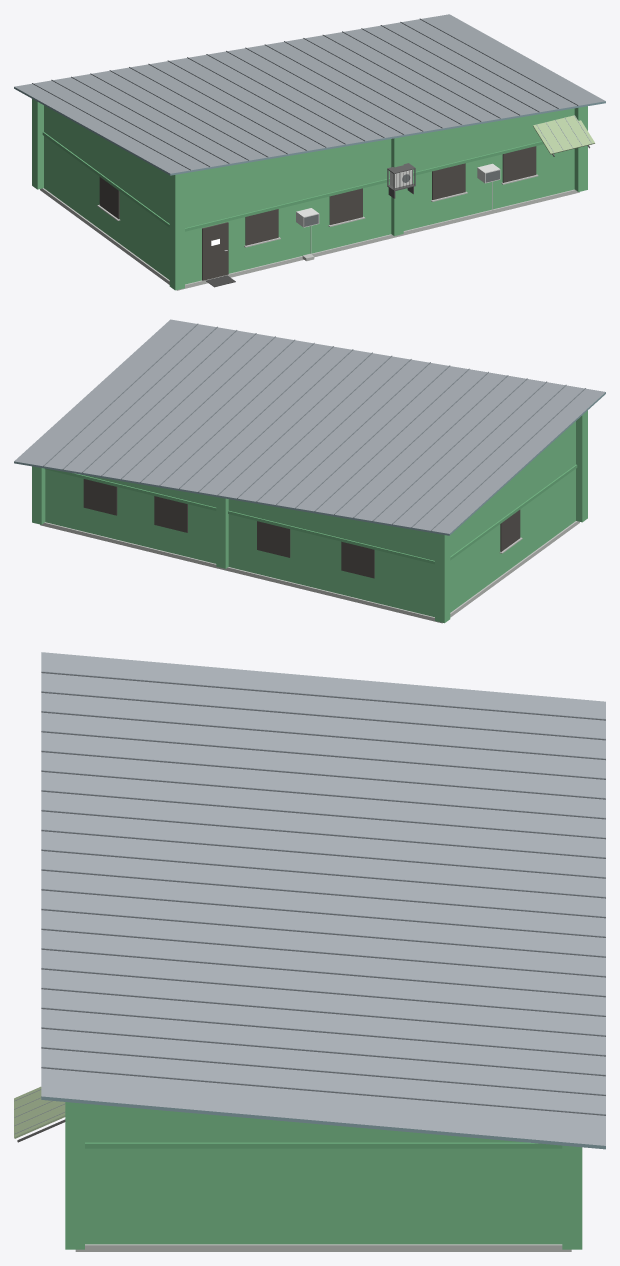
File: ild_building.glb
3 renders of one model, top to bottom at view 1: azimuth 30°, elevation 25°; view 2: azimuth 150°, elevation 25°; view 3: azimuth 270°, elevation 25°, orthographic. The views are drawn at different scales.
Visible parts, largest first — view 1: ILD_Roof_Slab, Mesh_ILD_WallGreen, Mesh_ILD_RoofRib, Mesh_ILD_FrameBronze, Mesh_ILD_PlinthConcrete, Mesh_ILD_WallBeam, ILD_Awning_Roof, Mesh_ILD_ACMetal, Mesh_ILD_CageDark; view 2: ILD_Roof_Slab, Mesh_ILD_WallGreen, Mesh_ILD_RoofRib, Mesh_ILD_FrameBronze, Mesh_ILD_PlinthConcrete, Mesh_ILD_WallBeam; view 3: ILD_Roof_Slab, Mesh_ILD_WallGreen, Mesh_ILD_RoofRib, Mesh_ILD_PlinthConcrete, Mesh_ILD_WallBeam, ILD_Awning_Roof.
Part boxes in pixels (x1,y1,x2,y2): ILD_Roof_Slab: (14, 14, 605, 175); Mesh_ILD_WallGreen: (32, 99, 587, 290); Mesh_ILD_RoofRib: (32, 18, 591, 170); Mesh_ILD_FrameBronze: (99, 146, 536, 280); Mesh_ILD_PlinthConcrete: (40, 174, 579, 290); Mesh_ILD_WallBeam: (42, 132, 543, 231); ILD_Awning_Roof: (533, 115, 594, 154); Mesh_ILD_ACMetal: (296, 163, 500, 253); Mesh_ILD_CageDark: (387, 163, 415, 191); ILD_Roof_Slab: (14, 319, 605, 535); Mesh_ILD_WallGreen: (32, 410, 587, 623); Mesh_ILD_RoofRib: (43, 323, 585, 530); Mesh_ILD_FrameBronze: (83, 479, 520, 578); Mesh_ILD_PlinthConcrete: (40, 521, 579, 623); Mesh_ILD_WallBeam: (45, 464, 577, 564); ILD_Roof_Slab: (41, 652, 605, 1149); Mesh_ILD_WallGreen: (65, 1102, 582, 1249); Mesh_ILD_RoofRib: (14, 671, 605, 1134); Mesh_ILD_PlinthConcrete: (75, 1244, 571, 1251); Mesh_ILD_WallBeam: (85, 1142, 562, 1148); ILD_Awning_Roof: (14, 1086, 65, 1138).
Bounding box in the file's own units: 19.11 × 5.36 × 12.47.
